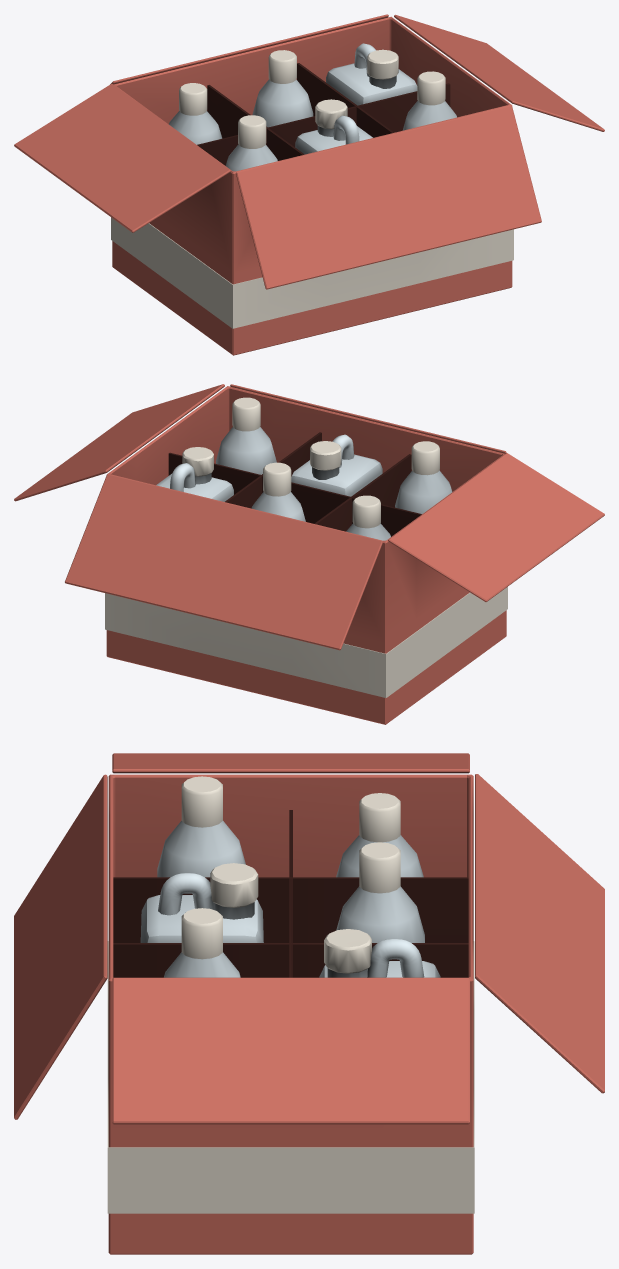
Rendered from crate_chem.glb.
3 views of the same model, one above another, from view 1: azimuth 30°, elevation 25°; view 2: azimuth 150°, elevation 25°; view 3: azimuth 270°, elevation 25° (orthographic). The views are drawn at different scales.
Visible parts, largest first — view 1: PART; view 2: PART; view 3: PART.
Boxes of the visible parts, x1,y1,x2,y2 form: PART: [14, 14, 604, 355]; PART: [14, 384, 604, 724]; PART: [14, 753, 604, 1254].
Bounding box in the file's own units: 0.6755 × 0.274 × 0.4856.
